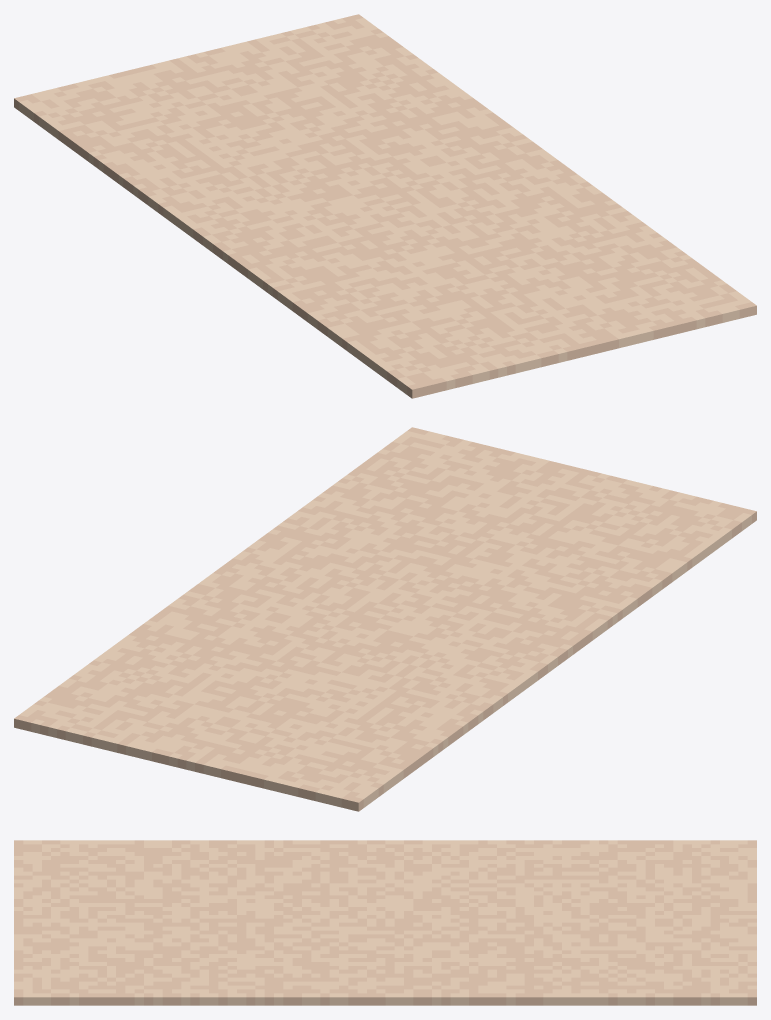
Rendered from floor_02_M.dae.
3 views of the same model, one above another, from view 1: azimuth 30°, elevation 25°; view 2: azimuth 150°, elevation 25°; view 3: azimuth 270°, elevation 25° (orthographic). The views are drawn at different scales.
Parts seen in each view (by area): view 1: Untitled; view 2: Untitled; view 3: Untitled.
Part boxes in pixels (x1,y1,x2,y2): Untitled: (14,14,756,398); Untitled: (14,427,756,811); Untitled: (14,840,756,1005).
Bounding box in the file's own units: 1.2 × 2.4 × 0.03.
Materials: 1 (1 with a texture image).
